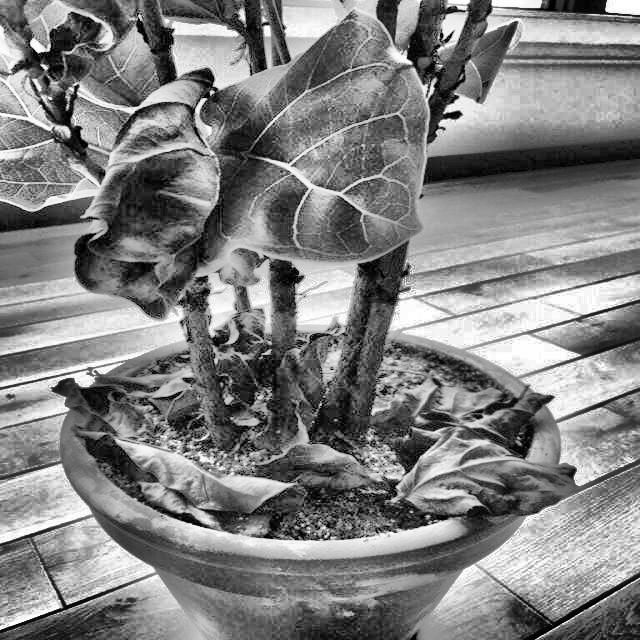plants: (0, 0, 595, 639), (80, 74, 236, 320), (394, 430, 586, 528)
